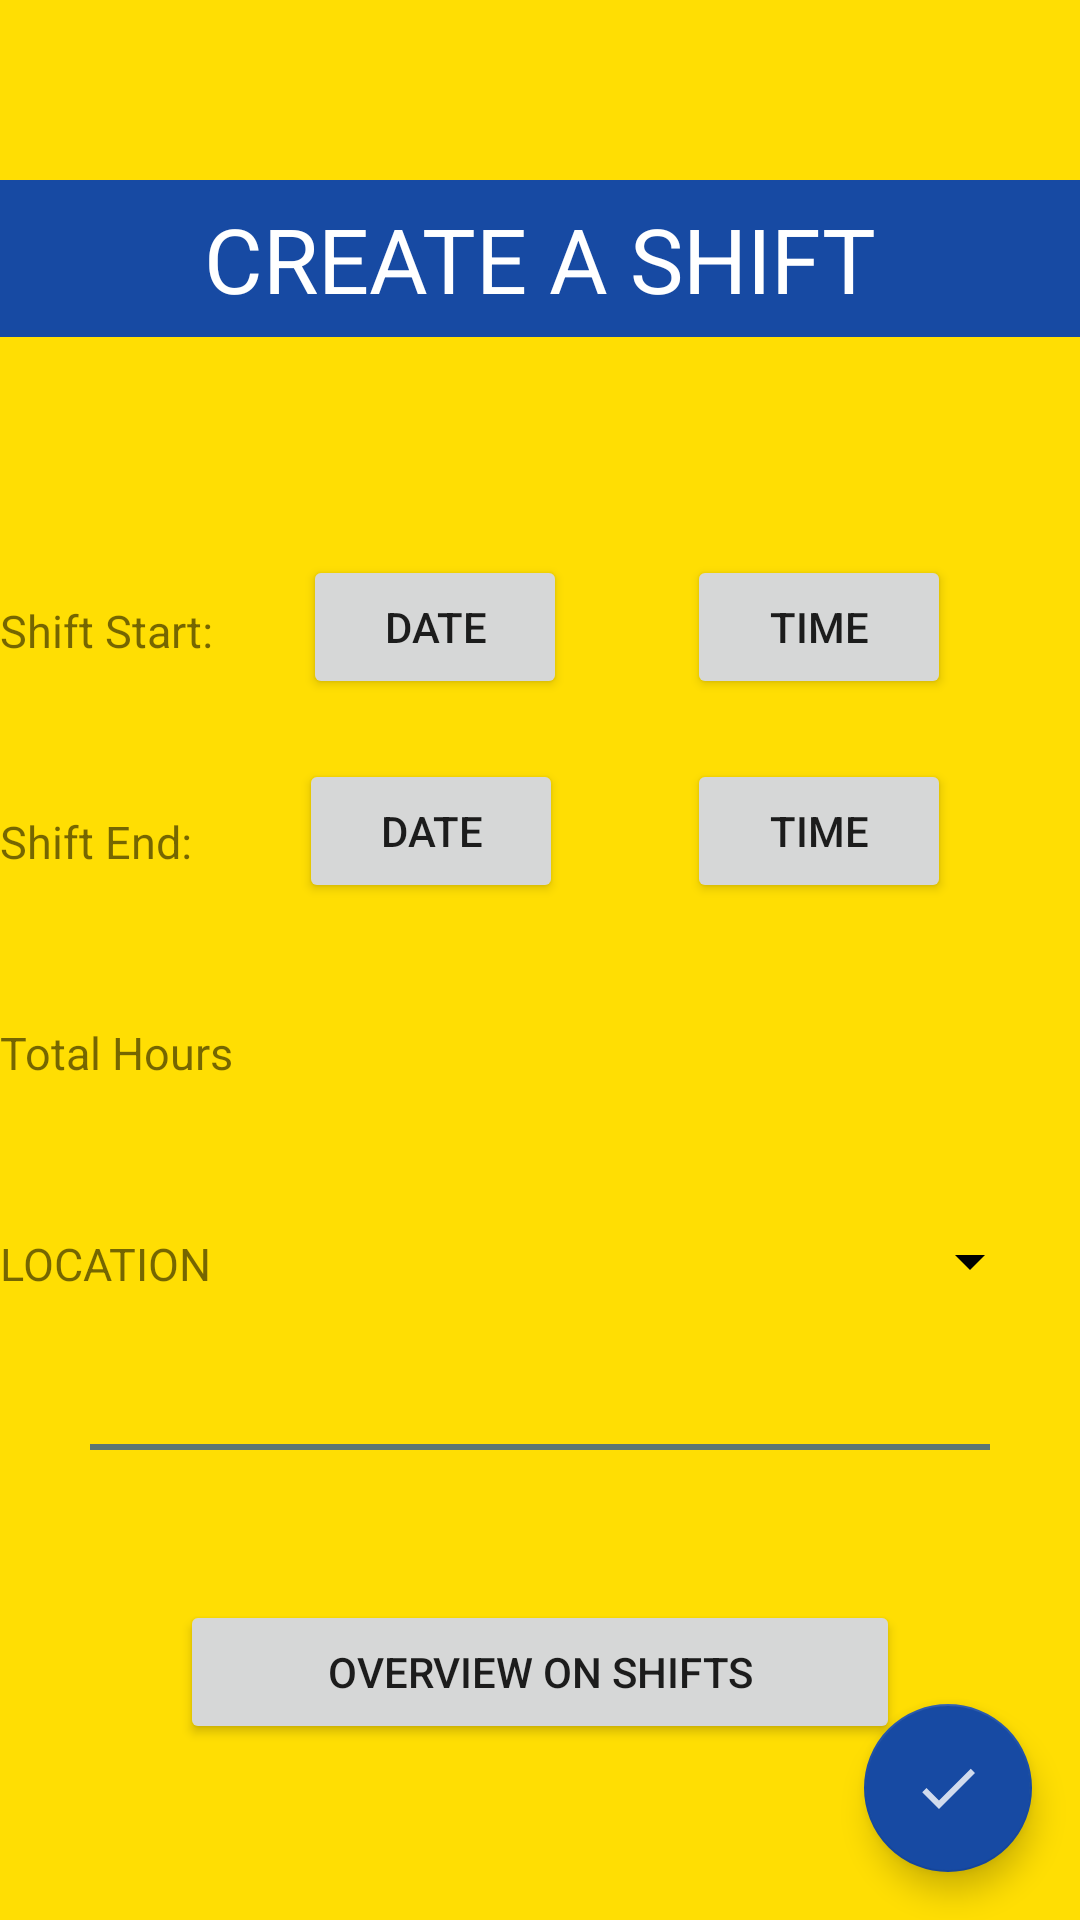

Named icons in this screenshot (1080px x 1920px) and their centers, (x=x, y=y):
check: (x=948, y=1788)
